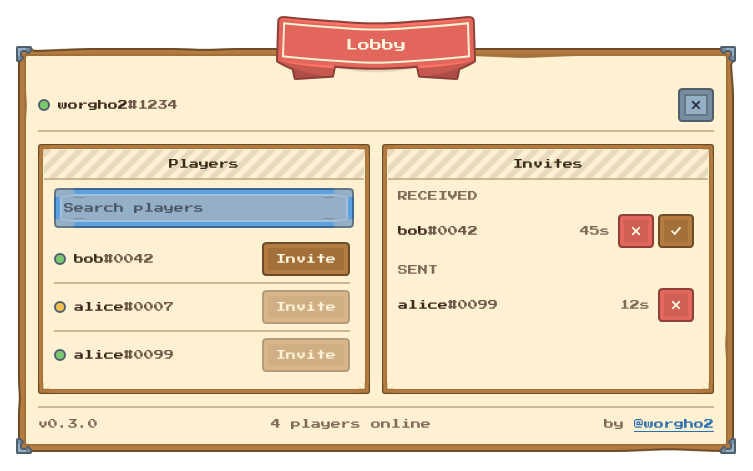
Scenario: LobbyScreen › search filters by handle substring, case-insensitively
This screenshot has width=753, height=471.
Type "BOB" into the field labelled "Search players" at (204, 208), box [54,188,354,228]
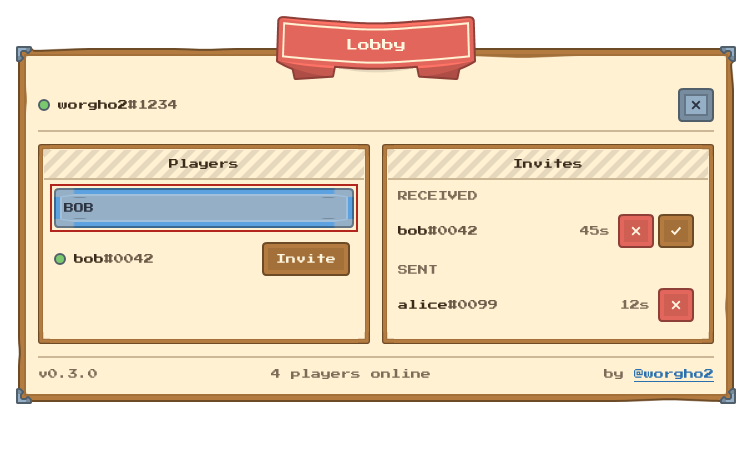
Expected: the button named "bob#0042" is shown, [54,247,254,271]
Replace the text in the field named "Search players" with "zzz" at (204, 208), box [54,188,354,228]
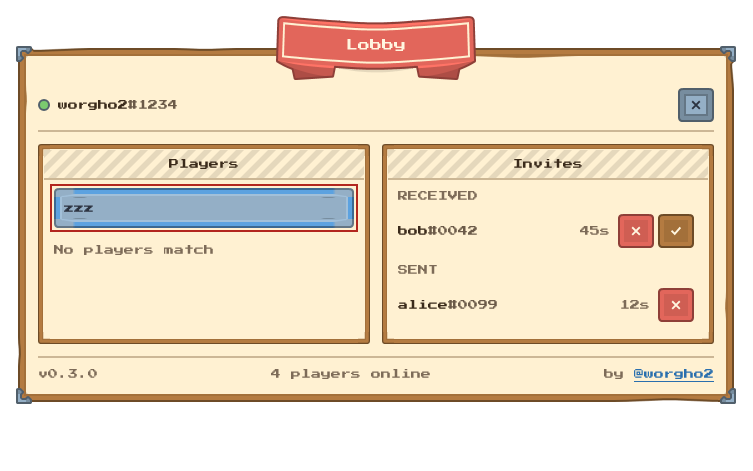
Expected: the text "No players match" is shown, [54,245,214,255]
